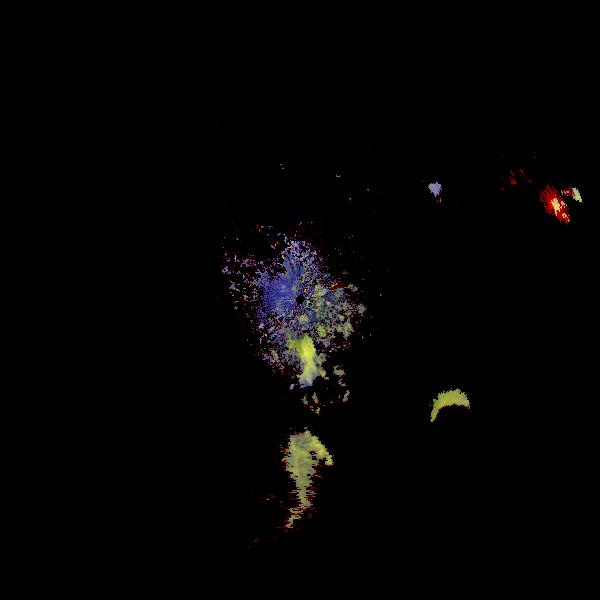roost: (426, 389, 486, 449), (269, 339, 323, 393), (410, 179, 452, 221)
